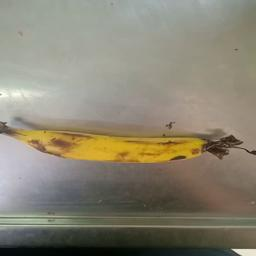Banana Semifresh: (3, 102, 255, 173)
